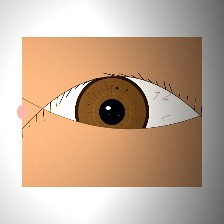pinguecula_lesion: (25, 87, 74, 127)
